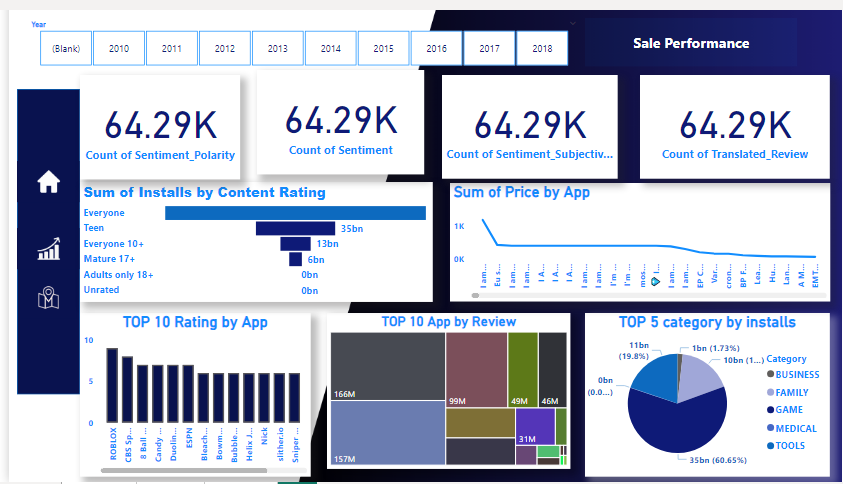

What the dashboard file says about the page in this screenshot:
{"tool":"powerbi","page":{"name":"SALE","canvas":[1280,720],"ordinal":1},"visuals":[{"type":"clusteredColumnChart","title":"TOP 10 Rating by App","fields":{"Category":["googleplaystore.App"],"Y":["CountNonNull(googleplaystore.Rating)"]},"box":[101.1,480,326.7,232.4],"z":0},{"type":"pieChart","title":"TOP 5 category by installs","fields":{"Y":["Sum(googleplaystore.Installs)"],"Series":["googleplaystore.Category"]},"box":[816.8,480,346.9,232.4],"z":1000},{"type":"treemap","title":"TOP 10 App by Review","fields":{"Values":["Sum(googleplaystore.Reviews)"],"Group":["googleplaystore.App"]},"box":[451.4,480,345.3,220.6],"z":2000},{"type":"shape","box":[11.8,163.4,89.3,432.8],"z":3000},{"type":"actionButton","box":[11.8,265.4,89,58.8],"z":4000},{"type":"actionButton","box":[11.8,359.5,89,58.8],"z":5000},{"type":"actionButton","box":[16.8,430,79,58.8],"z":6000},{"type":"funnel","fields":{"Category":["googleplaystore.Content Rating"],"Y":["Sum(googleplaystore.Installs)"]},"box":[101.1,294.7,500.2,170.1],"z":7000},{"type":"lineChart","fields":{"Category":["googleplaystore.App"],"Y":["Sum(googleplaystore.Price)"]},"box":[624.8,296.4,538.9,168.4],"z":8000},{"type":"card","fields":{"Values":["CountNonNull(googleplaystore_user_reviews.Sentiment_Polarity)"]},"box":[101.1,143.2,227.4,148.2],"z":9000},{"type":"card","fields":{"Values":["CountNonNull(googleplaystore_user_reviews.Translated_Review)"]},"box":[894.3,143.2,269.5,146.5],"z":10000},{"type":"card","fields":{"Values":["CountNonNull(googleplaystore_user_reviews.Sentiment_Subjectivity)"]},"box":[613.1,143.2,249.3,146.5],"z":11000},{"type":"card","fields":{"Values":["CountNonNull(googleplaystore_user_reviews.Sentiment)"]},"box":[352,136.4,237.5,148.2],"z":12000},{"type":"slicer","fields":{"Values":["googleplaystore.Last Updated.Variation.Date Hierarchy.Year"]},"box":[0,19.8,798,76.5],"z":13000},{"type":"shape","box":[816.8,62.3,301.5,69.1],"z":14000}]}

Visuals, with their boxes in screenshot pixels (x1, y1, x2, y2), scaled from the page's 1280x720 canvas onto the 843x484 screenshot:
"TOP 10 Rating by App" clusteredColumnChart: [67, 323, 282, 479]
"TOP 5 category by installs" pieChart: [538, 323, 766, 479]
"TOP 10 App by Review" treemap: [297, 323, 525, 471]
shape: [8, 110, 67, 401]
actionButton: [8, 178, 66, 218]
actionButton: [8, 242, 66, 281]
actionButton: [11, 289, 63, 329]
funnel - googleplaystore.Content Rating x Sum(googleplaystore.Installs): [67, 198, 396, 312]
lineChart - googleplaystore.App x Sum(googleplaystore.Price): [411, 199, 766, 312]
card - CountNonNull(googleplaystore_user_reviews.Sentiment_Polarity): [67, 96, 216, 196]
card - CountNonNull(googleplaystore_user_reviews.Translated_Review): [589, 96, 766, 195]
card - CountNonNull(googleplaystore_user_reviews.Sentiment_Subjectivity): [404, 96, 568, 195]
card - CountNonNull(googleplaystore_user_reviews.Sentiment): [232, 92, 388, 191]
slicer - googleplaystore.Last Updated.Variation.Date Hierarchy.Year: [0, 13, 526, 65]
shape: [538, 42, 737, 88]
